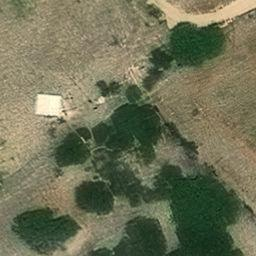manzanas: (36, 93, 67, 121)
